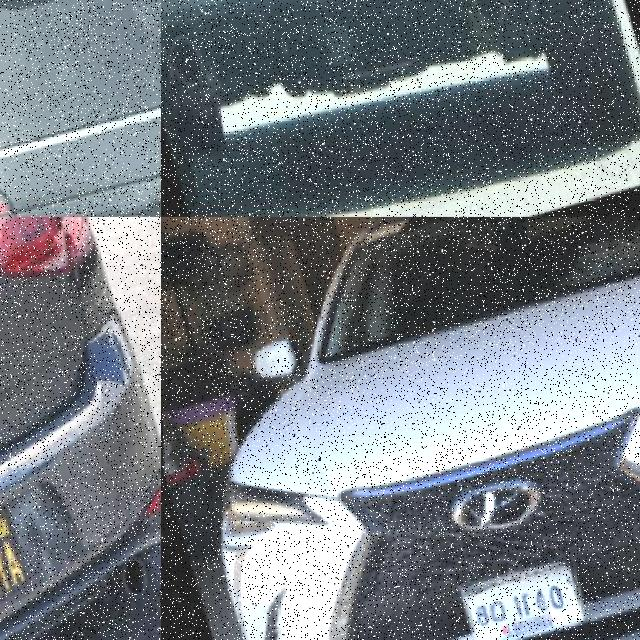licenseplate: (457, 563, 585, 640), (0, 503, 66, 635), (249, 0, 364, 55)
